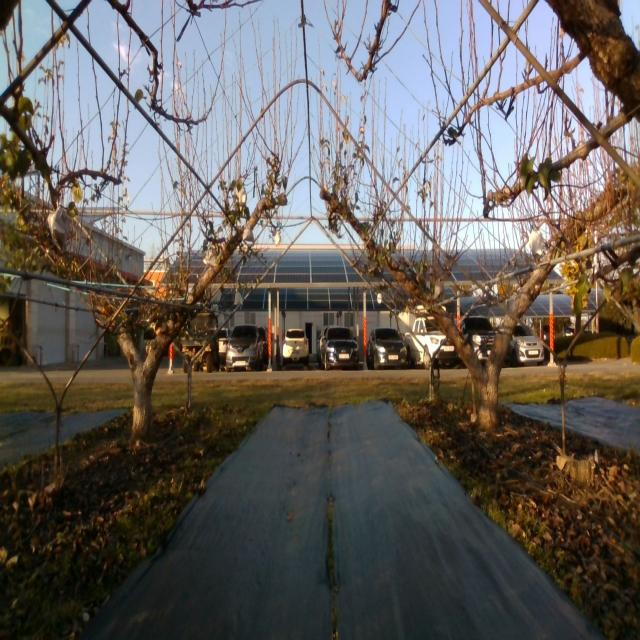pearbags: (47, 204, 70, 254), (529, 230, 544, 255), (206, 247, 217, 266), (238, 186, 248, 206), (243, 224, 254, 242)
